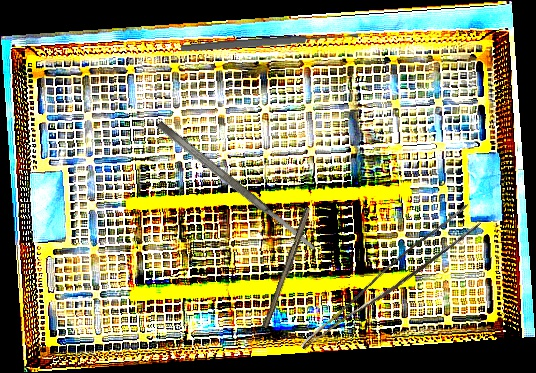Scalpel Handle: (262, 206, 313, 330)
Spatula Surgical: (155, 119, 318, 254)
Surgical Spoon: (180, 30, 359, 54)
Tissue Forceps: (299, 198, 484, 369)
